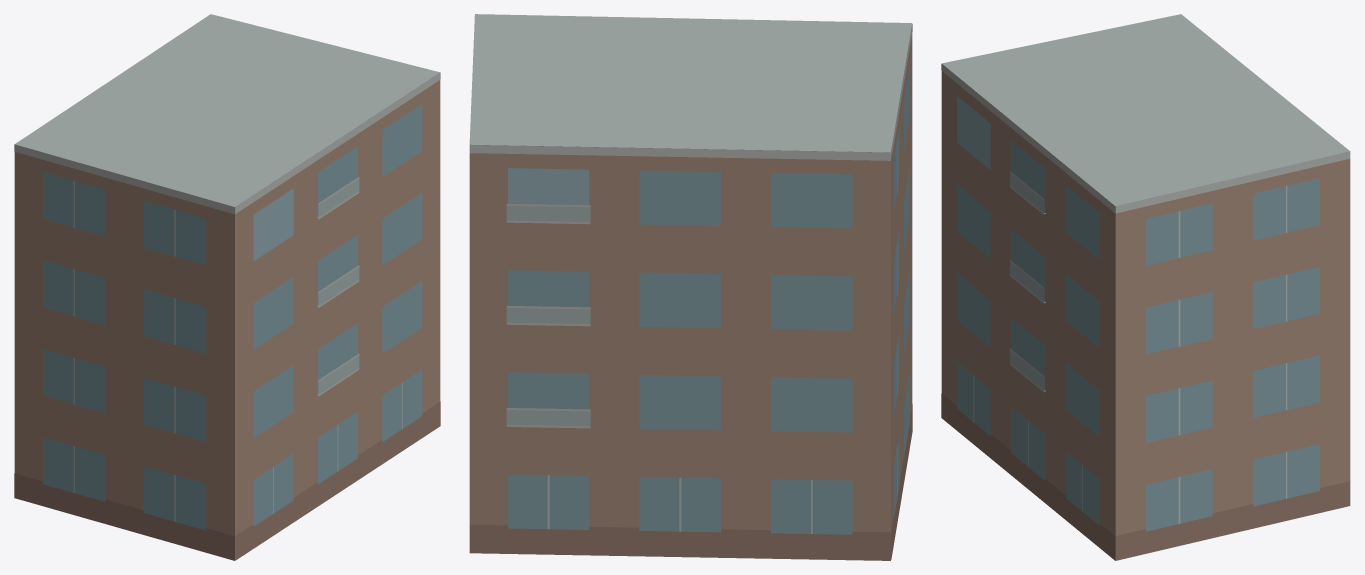
The model's file is survey-upis-32912737.glb.
3 views of the same model, side by side, from view 1: azimuth 30°, elevation 25°; view 2: azimuth 150°, elevation 25°; view 3: azimuth 270°, elevation 25° (orthographic). The views are drawn at different scales.
Visible parts, largest first — view 1: survey-upis-32912737.tmp; view 2: survey-upis-32912737.tmp; view 3: survey-upis-32912737.tmp.
Part boxes in pixels (x1,y1,x2,y2): survey-upis-32912737.tmp: (14,14,440,560); survey-upis-32912737.tmp: (469,14,912,560); survey-upis-32912737.tmp: (941,14,1350,560).
Size of the model in its own units: 13.79 by 11.85 by 12.39.
